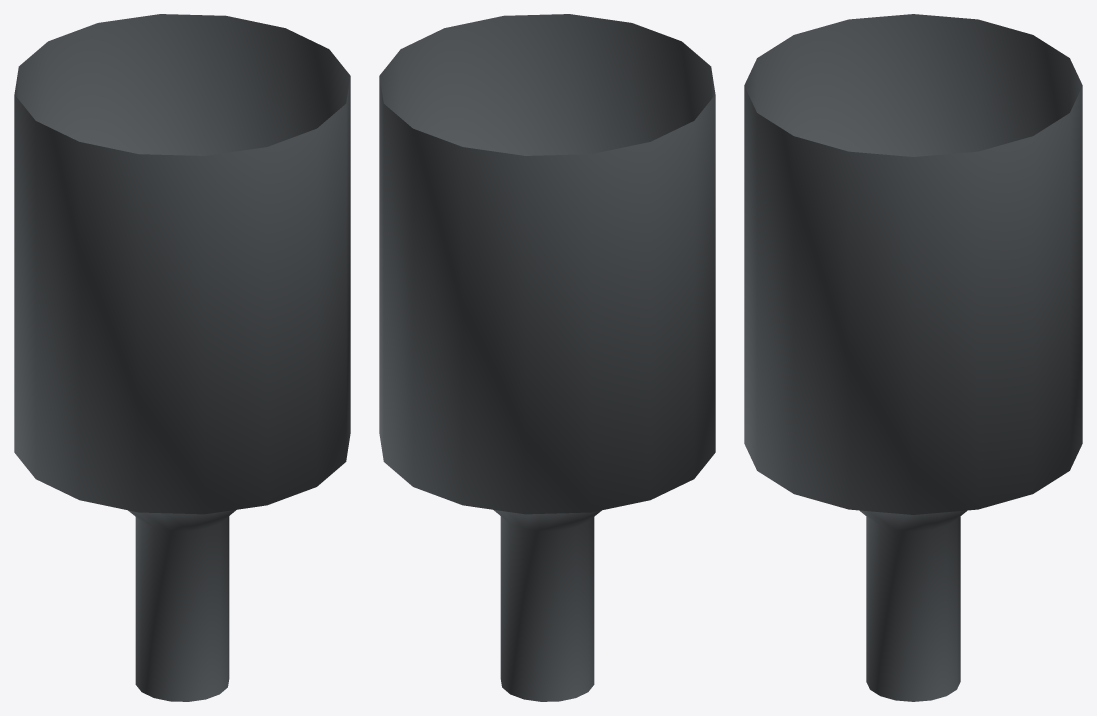
Rendered from LampHolder.obj.
The picture shows the model from 3 angles, left to right: view 1: azimuth 30°, elevation 25°; view 2: azimuth 150°, elevation 25°; view 3: azimuth 270°, elevation 25°; orthographic projection.
Parts seen in each view (by area): view 1: Lampholder; view 2: Lampholder; view 3: Lampholder.
Part boxes in pixels (x1,y1,x2,y2): Lampholder: [14, 14, 350, 701]; Lampholder: [379, 14, 715, 701]; Lampholder: [744, 14, 1082, 701].
Size of the model in its own units: 0.1404 by 0.273 by 0.1404.
Materials: 1 (1 with a texture image).
